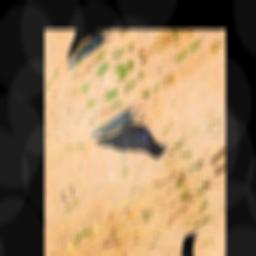Crow: (93, 94, 170, 191)
